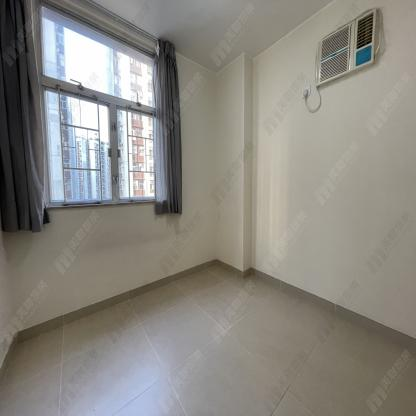AC: (315, 7, 380, 89)
